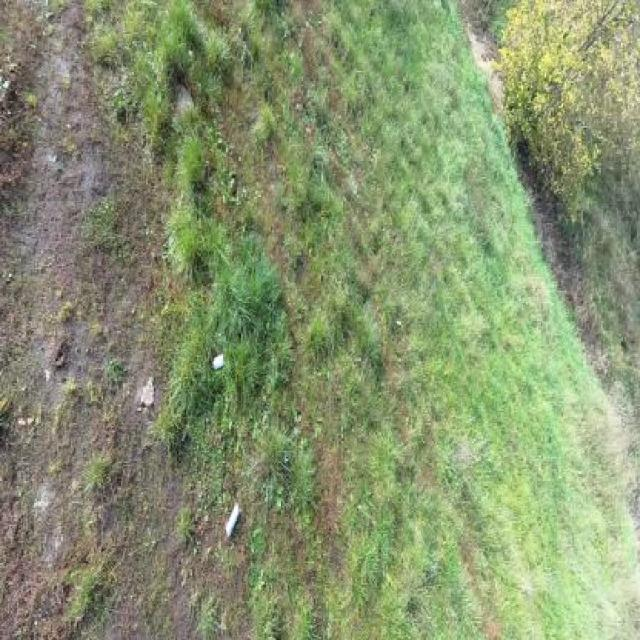Garbage: (225, 502, 241, 539), (210, 353, 226, 371)
